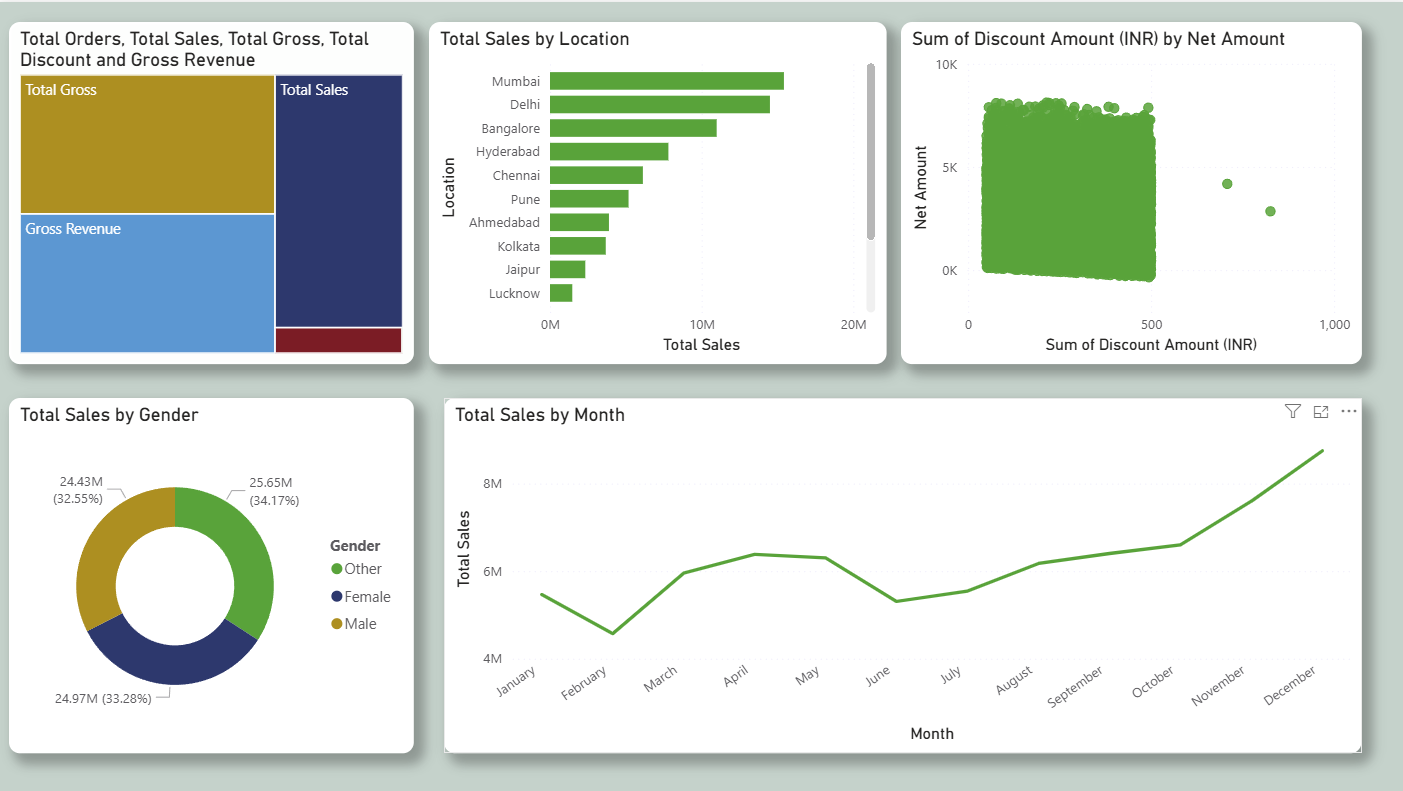

The dashboard page shown, as its layout file describes it:
{"tool":"powerbi","page":{"name":"Page 2","canvas":[1280,720],"ordinal":1},"visuals":[{"type":"treemap","fields":{"Values":["E-Commerce Sales Analysis Dashboard.Total Orders","E-Commerce Sales Analysis Dashboard.Total Sales","E-Commerce Sales Analysis Dashboard.Total Gross","E-Commerce Sales Analysis Dashboard.Total Discount","E-Commerce Sales Analysis Dashboard.Gross Revenue"]},"box":[9,17.9,367.9,311],"z":0},{"type":"barChart","fields":{"Category":["E-Commerce Sales Analysis Dashboard.Location"],"Y":["E-Commerce Sales Analysis Dashboard.Total Sales"]},"box":[390.8,17.9,415.7,311],"z":1000},{"type":"scatterChart","fields":{"Y":["E-Commerce Sales Analysis Dashboard.Net Amount"],"X":["Sum(E-Commerce Sales Analysis Dashboard.Discount Amount (INR))"]},"box":[820.4,17.9,418.7,311],"z":2000},{"type":"donutChart","fields":{"Category":["E-Commerce Sales Analysis Dashboard.Gender"],"Y":["E-Commerce Sales Analysis Dashboard.Total Sales"]},"box":[9,359.9,367.9,323],"z":3000},{"type":"lineChart","fields":{"Category":["E-Commerce Sales Analysis Dashboard.Purchase Date.Variation.Date Hierarchy.Month"],"Y":["E-Commerce Sales Analysis Dashboard.Total Sales"]},"box":[404.7,359.9,834.4,323],"z":4000}]}

Visuals, with their boxes in screenshot pixels (x1, y1, x2, y2), scaled from the page's 1280x720 canvas onto the 1403x791 screenshot:
treemap - E-Commerce Sales Analysis Dashboard.Total Orders x E-Commerce Sales Analysis Dashboard.Total Sales: select_region(10, 20, 413, 361)
barChart - E-Commerce Sales Analysis Dashboard.Location x E-Commerce Sales Analysis Dashboard.Total Sales: select_region(428, 20, 884, 361)
scatterChart - E-Commerce Sales Analysis Dashboard.Net Amount x Sum(E-Commerce Sales Analysis Dashboard.Discount Amount (INR)): select_region(899, 20, 1358, 361)
donutChart - E-Commerce Sales Analysis Dashboard.Gender x E-Commerce Sales Analysis Dashboard.Total Sales: select_region(10, 395, 413, 750)
lineChart - E-Commerce Sales Analysis Dashboard.Purchase Date.Variation.Date Hierarchy.Month x E-Commerce Sales Analysis Dashboard.Total Sales: select_region(444, 395, 1358, 750)
